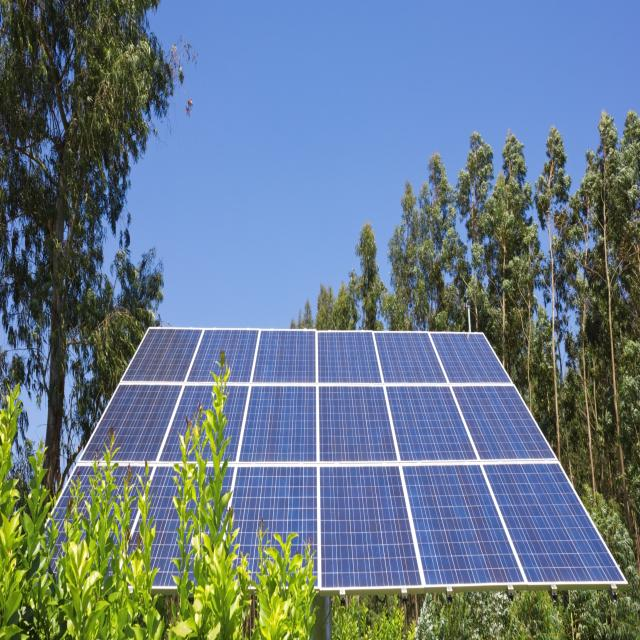Clean: (49, 323, 625, 587)
